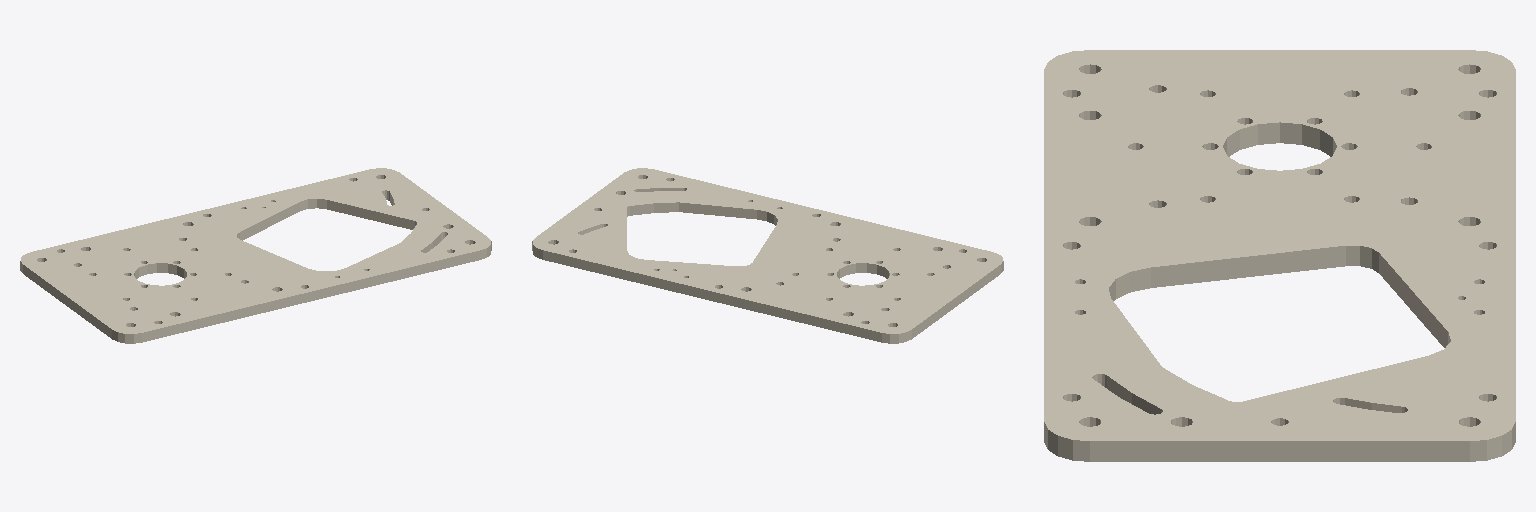
robot.urdf — blue_description_link:
<robot
  name="blue_description_link">
  <link
    name="base_link">
    <inertial>
      <origin
        xyz="0.0043477541389173 0 -0.0764683318824377"
        rpy="0 0 0" />
      <mass
        value="1.80901122392276" />
      <inertia
        ixx="0.0091937456982913"
        ixy="1.27362263865398E-08"
        ixz="0.00010247865043886"
        iyy="0.00871917388181738"
        iyz="3.26622166777351E-06"
        izz="0.00388062453070139" />
    </inertial>
    <visual>
      <origin
        xyz="0 0 0"
        rpy="0 0 0" />
      <geometry>
        <mesh
          filename="package://blue_description_link/meshes/base_link.STL" />
      </geometry>
      <material
        name="">
        <color
          rgba="0.843137254901961 0.815686274509804 0.752941176470588 1" />
      </material>
    </visual>
    <collision>
      <origin
        xyz="0 0 0"
        rpy="0 0 0" />
      <geometry>
        <mesh
          filename="package://blue_description_link/meshes/base_link.STL" />
      </geometry>
    </collision>
  </link>
  <link
    name="lift_link">
    <inertial>
      <origin
        xyz="-5.0083559080677E-06 0.000232928456050885 -1.77451392545103E-05"
        rpy="0 0 0" />
      <mass
        value="0.388307108622636" />
      <inertia
        ixx="0.000804272985961788"
        ixy="4.84548777859872E-08"
        ixz="2.09160815704306E-06"
        iyy="0.000818260636171894"
        iyz="-1.44954778549764E-08"
        izz="0.000550840705045094" />
    </inertial>
    <visual>
      <origin
        xyz="0 0 0"
        rpy="0 0 0" />
      <geometry>
        <mesh
          filename="package://blue_description_link/meshes/lift_link.STL" />
      </geometry>
      <material
        name="">
        <color
          rgba="0.792156862745098 0.819607843137255 0.933333333333333 1" />
      </material>
    </visual>
    <collision>
      <origin
        xyz="0 0 0"
        rpy="0 0 0" />
      <geometry>
        <mesh
          filename="package://blue_description_link/meshes/lift_link.STL" />
      </geometry>
    </collision>
  </link>
  <joint
    name="lift_joint"
    type="revolute">
    <origin
      xyz="-0.01143 0 -0.21082"
      rpy="-1.5708 4.4409E-16 3.1416" />
    <parent
      link="base_link" />
    <child
      link="lift_link" />
    <axis
      xyz="0 0 1" />
    <limit
      lower="-3.141592"
      upper="3.141592"
      effort="0"
      velocity="0" />
  </joint>
  <link
    name="roll_link">
    <inertial>
      <origin
        xyz="0.0052656488201055 5.32997221069781E-05 -0.0641725544925586"
        rpy="0 0 0" />
      <mass
        value="1.52396434922939" />
      <inertia
        ixx="0.00578789299599043"
        ixy="1.90247522695056E-06"
        ixz="-6.31088143287672E-05"
        iyy="0.00530315640050716"
        iyz="1.26895335190205E-06"
        izz="0.00342501474546171" />
    </inertial>
    <visual>
      <origin
        xyz="0 0 0"
        rpy="0 0 0" />
      <geometry>
        <mesh
          filename="package://blue_description_link/meshes/roll_link.STL" />
      </geometry>
      <material
        name="">
        <color
          rgba="1 1 1 1" />
      </material>
    </visual>
    <collision>
      <origin
        xyz="0 0 0"
        rpy="0 0 0" />
      <geometry>
        <mesh
          filename="package://blue_description_link/meshes/roll_link.STL" />
      </geometry>
    </collision>
  </link>
  <joint
    name="roll_joint"
    type="revolute">
    <origin
      xyz="0 0.070147 -6.25E-05"
      rpy="-1.5708 1.5673 -3.1416" />
    <parent
      link="lift_link" />
    <child
      link="roll_link" />
    <axis
      xyz="0 0 1" />
    <limit
      lower="-3.141592"
      upper="3.141592"
      effort="0"
      velocity="0" />
  </joint>
</robot>

--- What the picture shows (computed from the rendered views, not written in the file) ---
The picture shows the robot from 3 angles, left to right: view 1: azimuth 30°, elevation 25°; view 2: azimuth 150°, elevation 25°; view 3: azimuth 270°, elevation 25°; orthographic projection.
Model blue_description_link with 3 links and 2 joints (2 revolute), rooted at base_link, posed every joint at zero.
Links seen in each view (by area): view 1: base_link; view 2: base_link; view 3: base_link.
Link boxes in pixels (x1,y1,x2,y2): base_link: (20,168,491,343); base_link: (532,168,1003,343); base_link: (1044,50,1515,461).
Bounding box of the posed robot: 0.2572 × 0.1308 × 0.0063 m (x, y, z).
1 mesh visuals loaded from 3 distinct referenced files (1 binary STL); not drawn: 2 (reference not matched to a file when rendering).